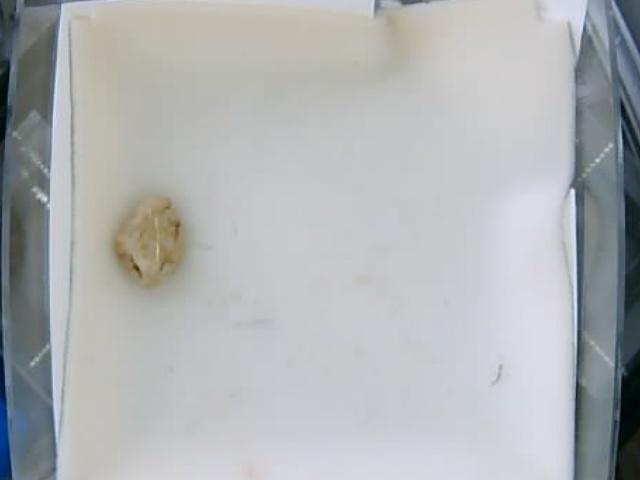Pebble: (110, 192, 185, 289)
